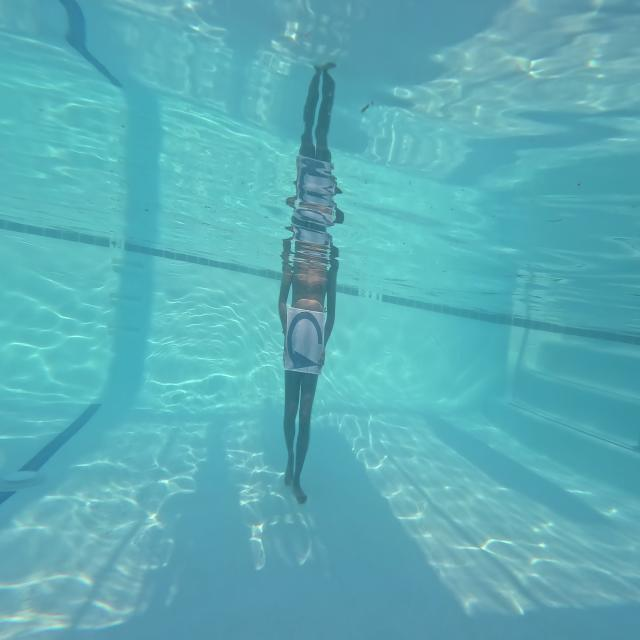blue_side: (285, 303, 325, 376)
